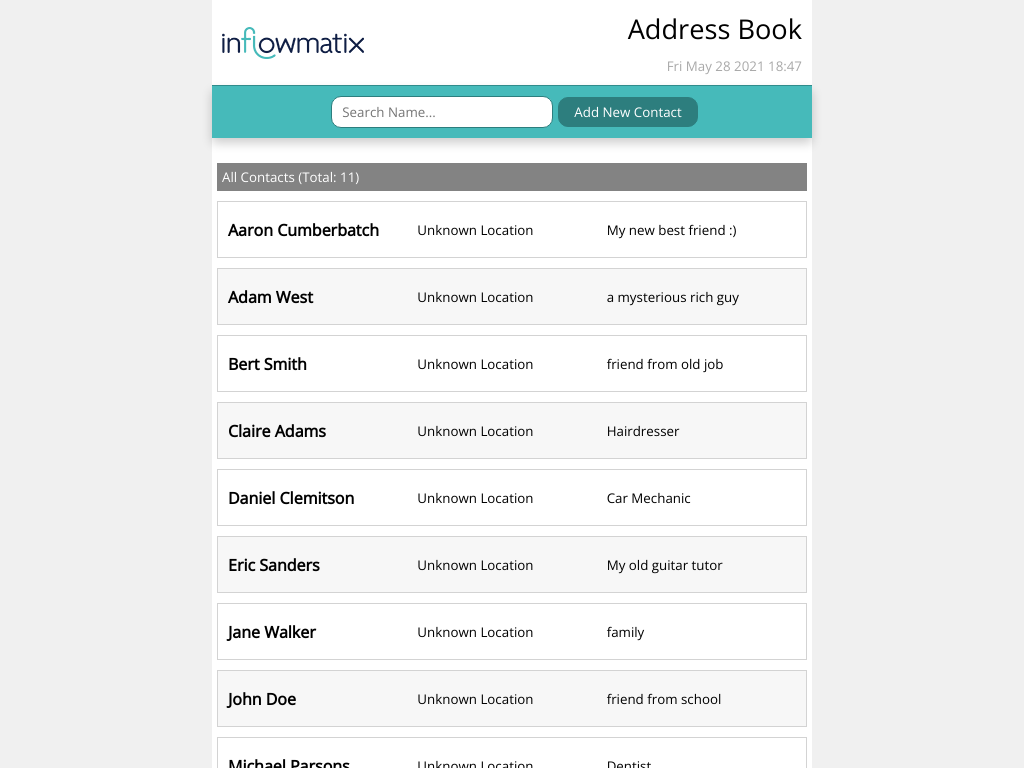
Test case: updates contacts › updates an existing contact: Adam West
Click the list item with id "Adam West" at [512, 297], box [217, 268, 807, 325]
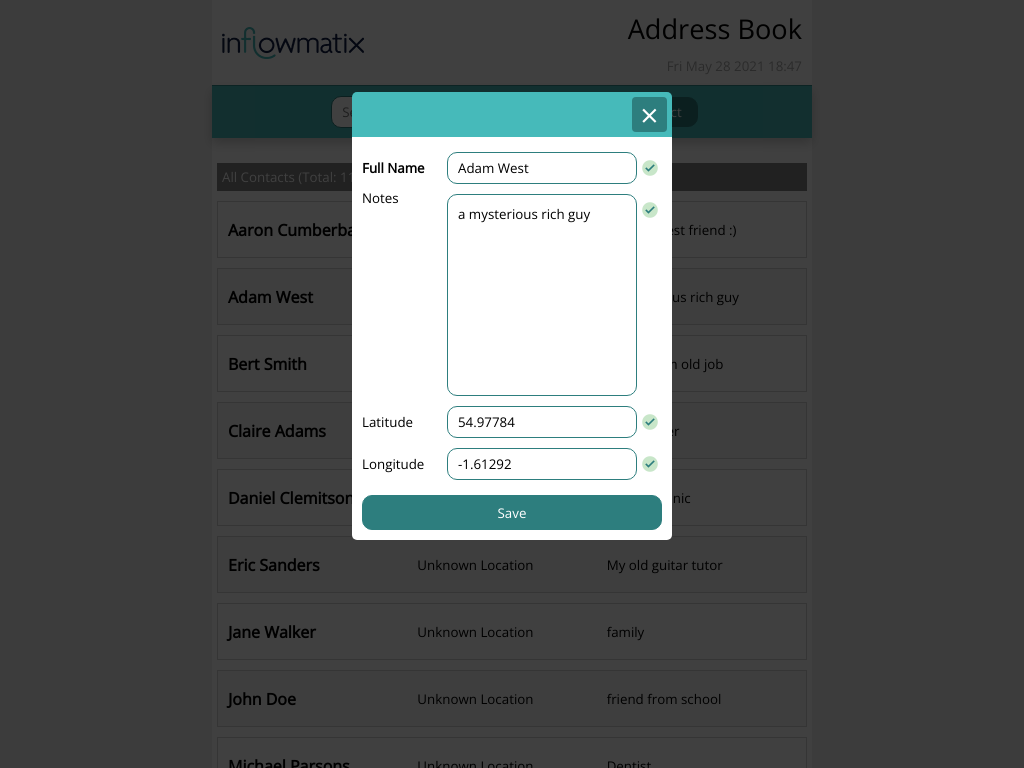
Check: the element showing "× Full Name Notes Latitude Longitude Save" is shown
Replace the text in the text box with id "txtNotes" with "Holy smokes...it's Batman!" at [542, 295], box [447, 194, 637, 396]
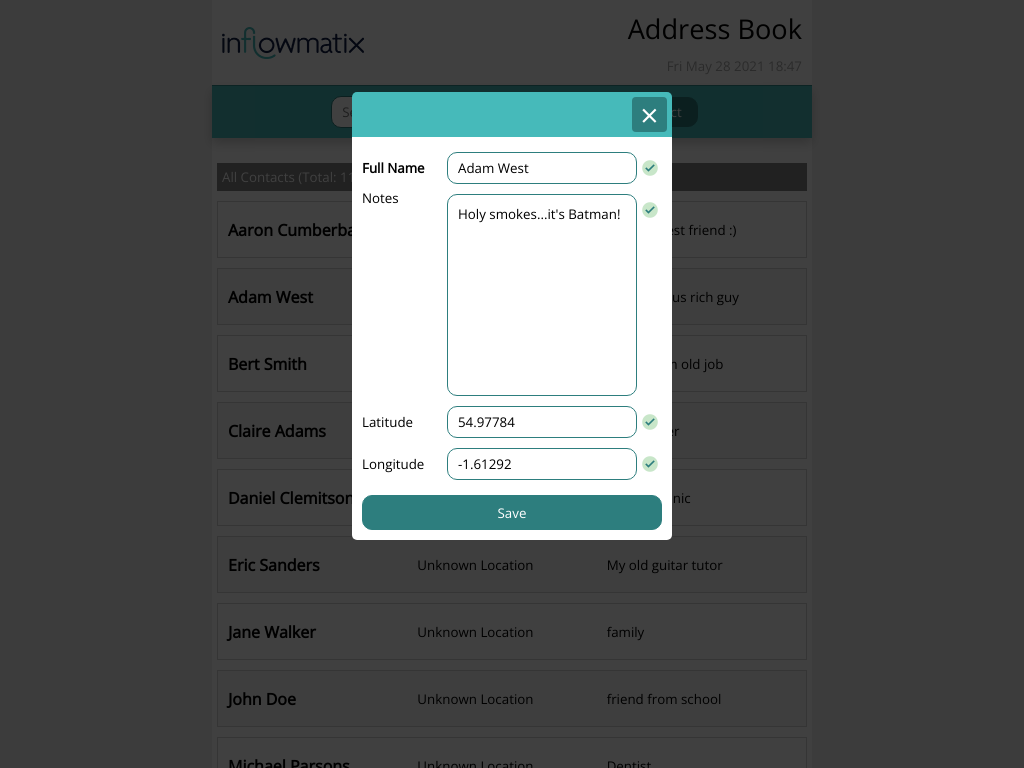
Click the button with id "btnSaveDetails" at [512, 513], box [362, 495, 662, 530]
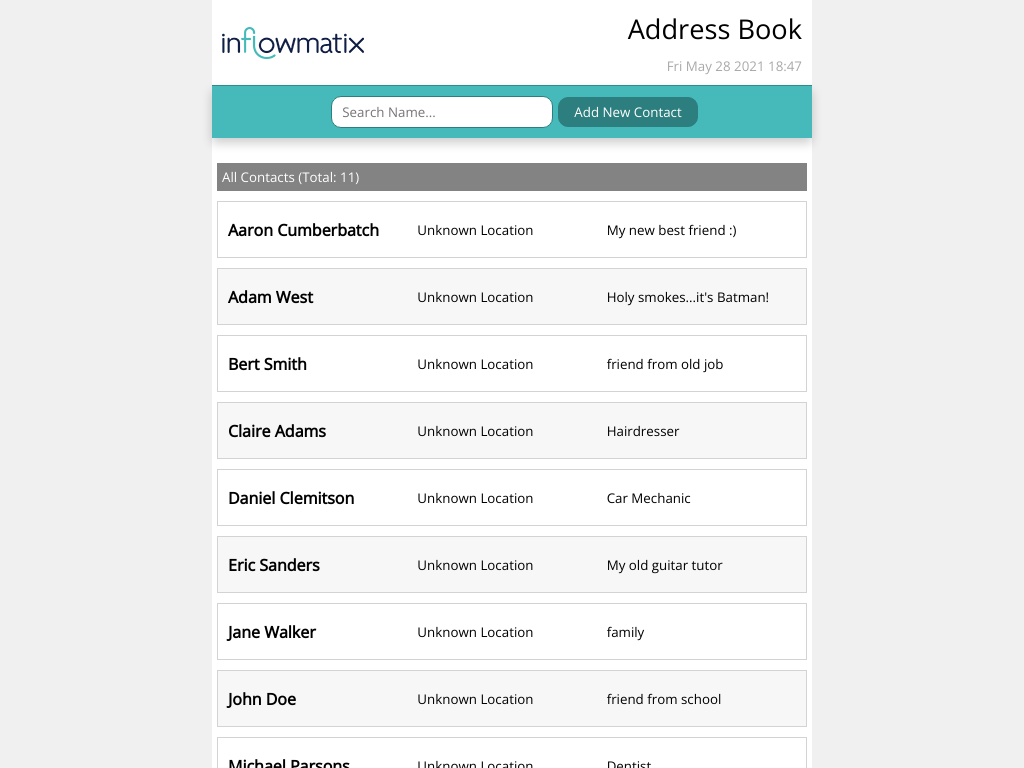
Check: the text "Batman" is shown, box [607, 288, 769, 306]
